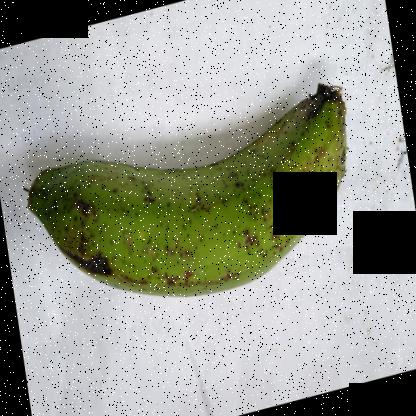unripe: (15, 75, 356, 313)
